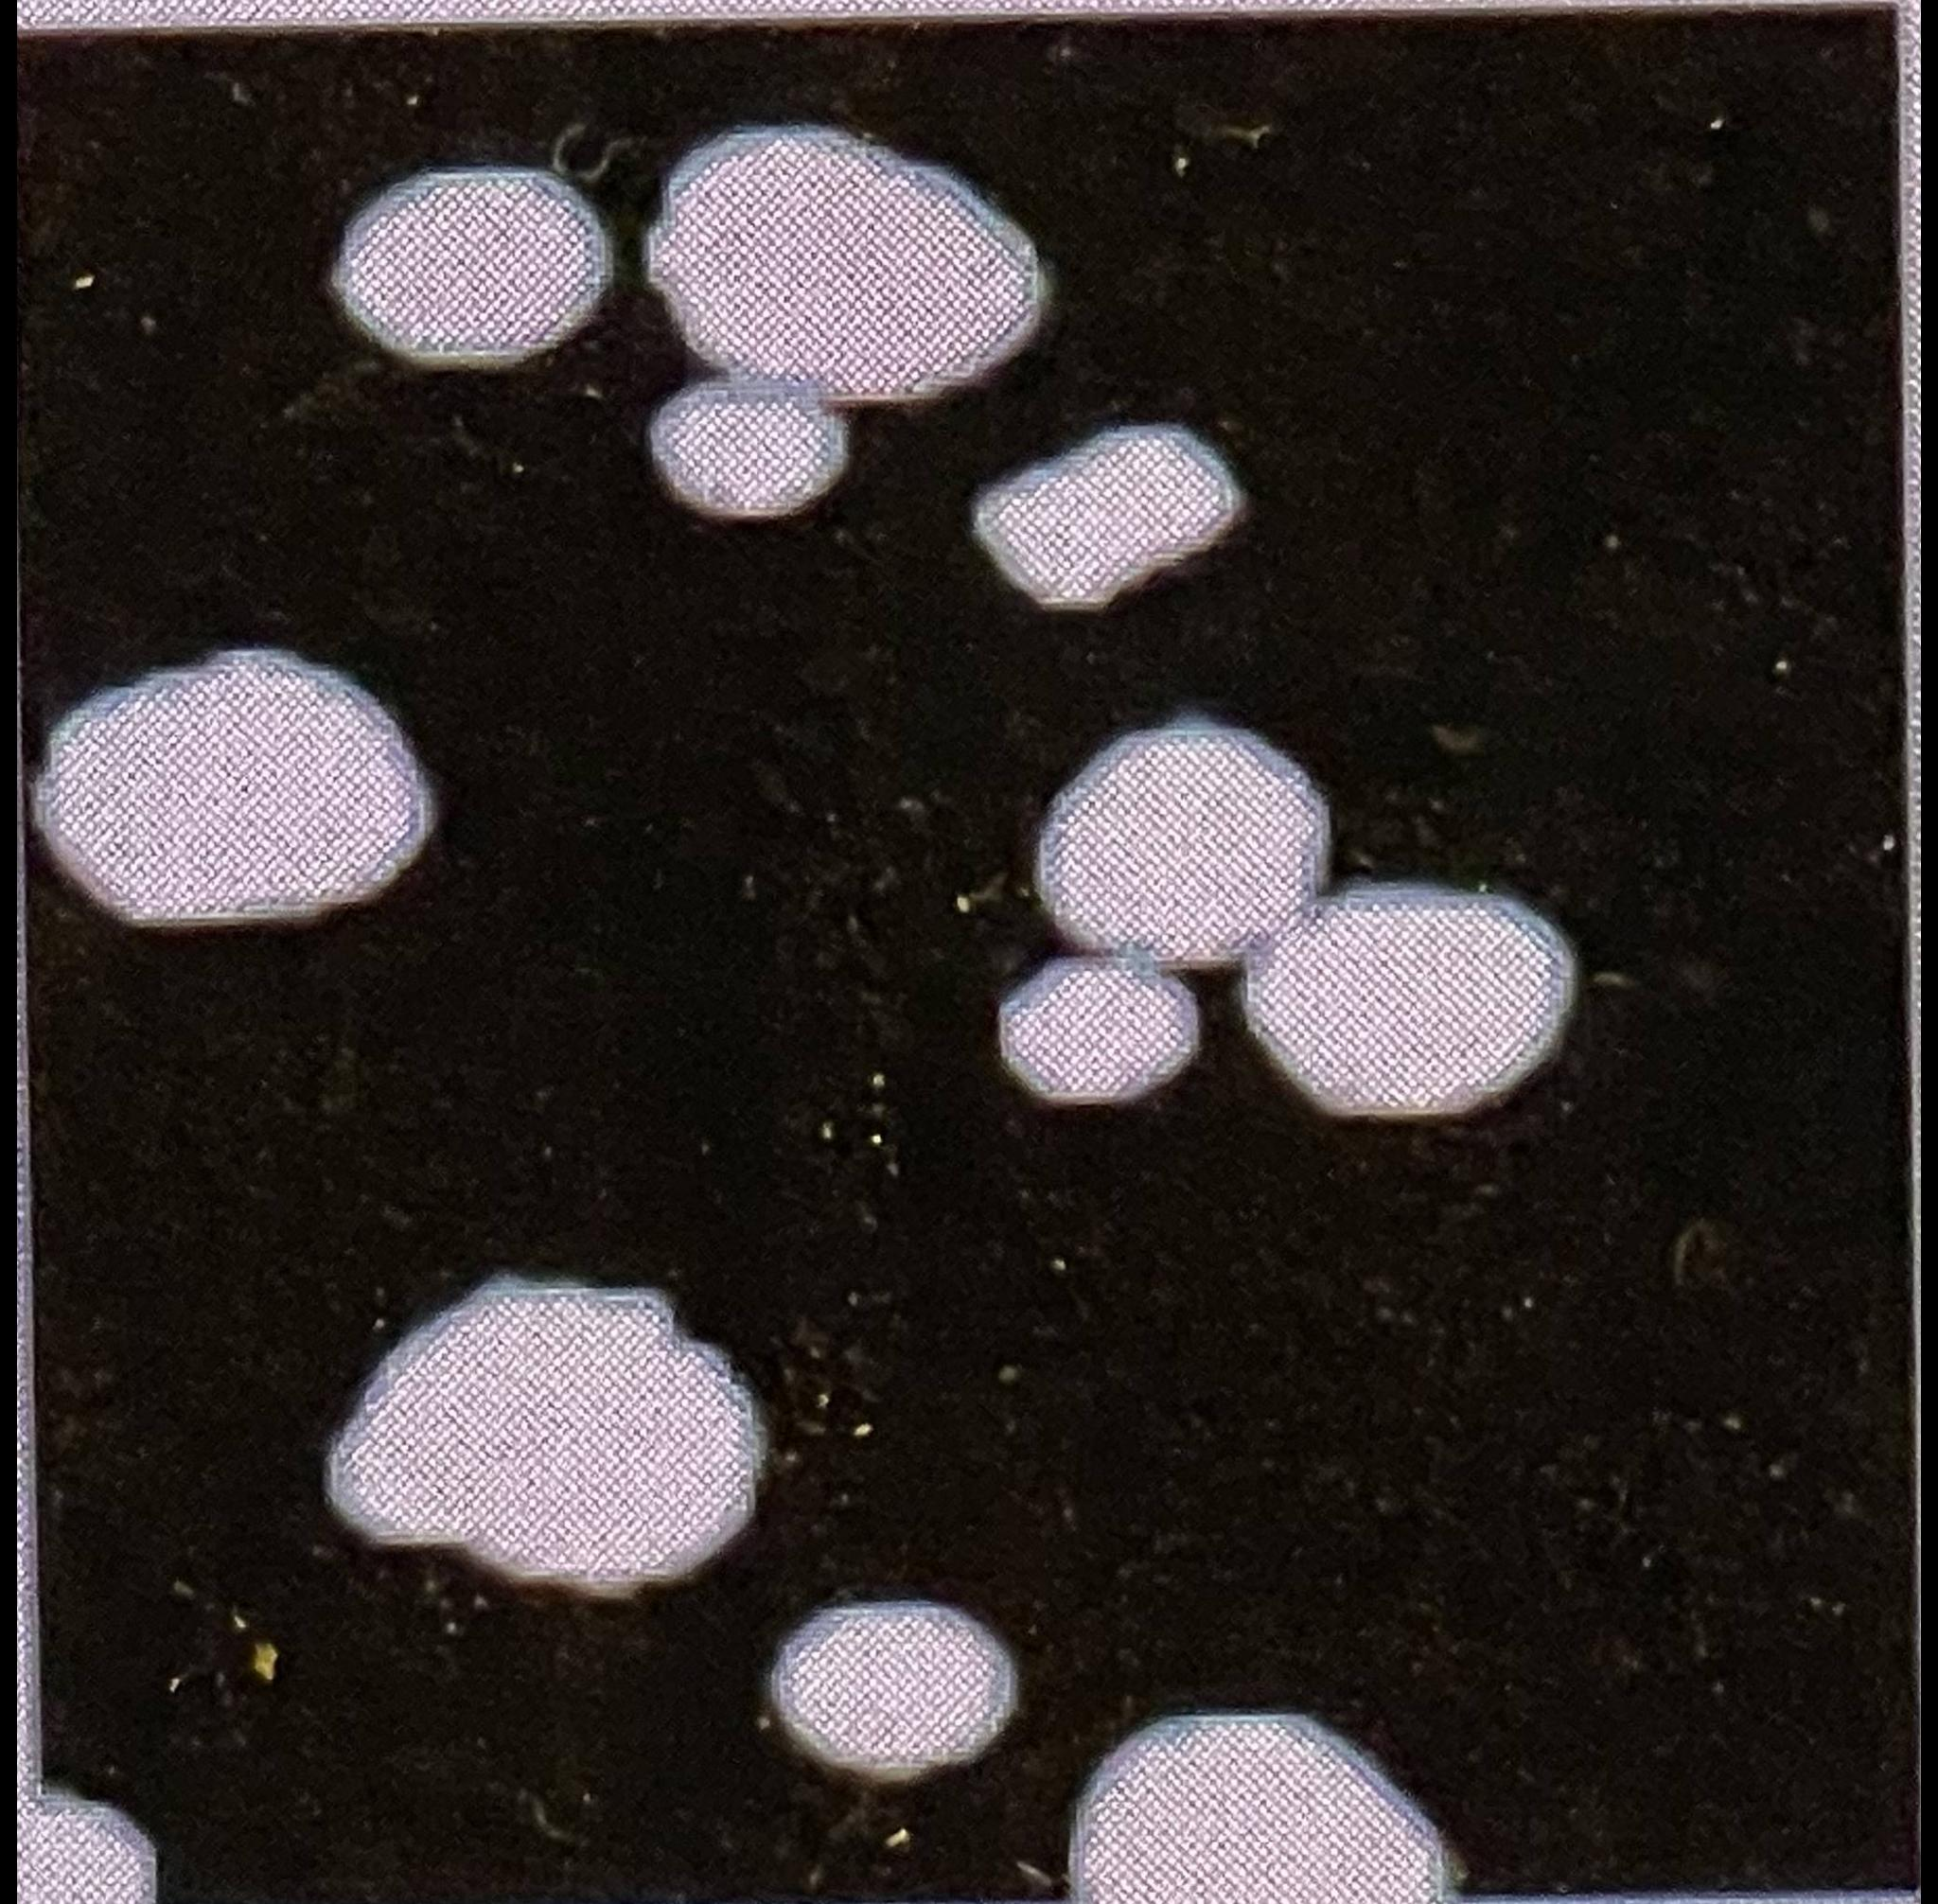cell: (1002, 722, 1579, 1116), (324, 1278, 763, 1595), (1072, 1717, 1755, 1904), (31, 647, 434, 924), (647, 124, 1044, 398), (1039, 722, 1332, 964), (329, 164, 610, 361), (972, 420, 1246, 605), (770, 1602, 1018, 1780), (999, 955, 1201, 1102), (648, 378, 847, 514), (17, 1796, 152, 1904)
